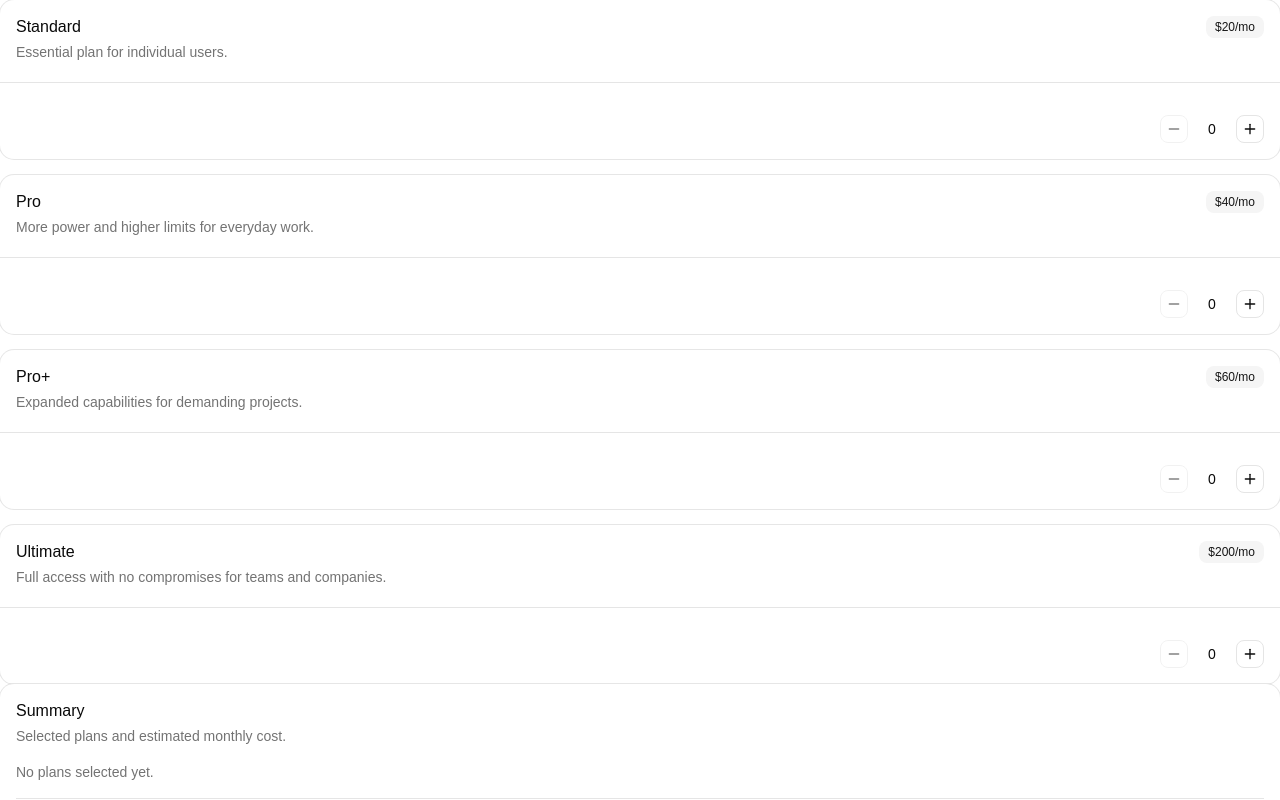
Test: CartSummary › shows selected items and total
The width and height of the screenshot is (1280, 800).
Check: the text "Pro" is shown, box [16,193,41,210]
Click the button named "Increase Pro quantity": click(1250, 304) [1236,290,1264,318]
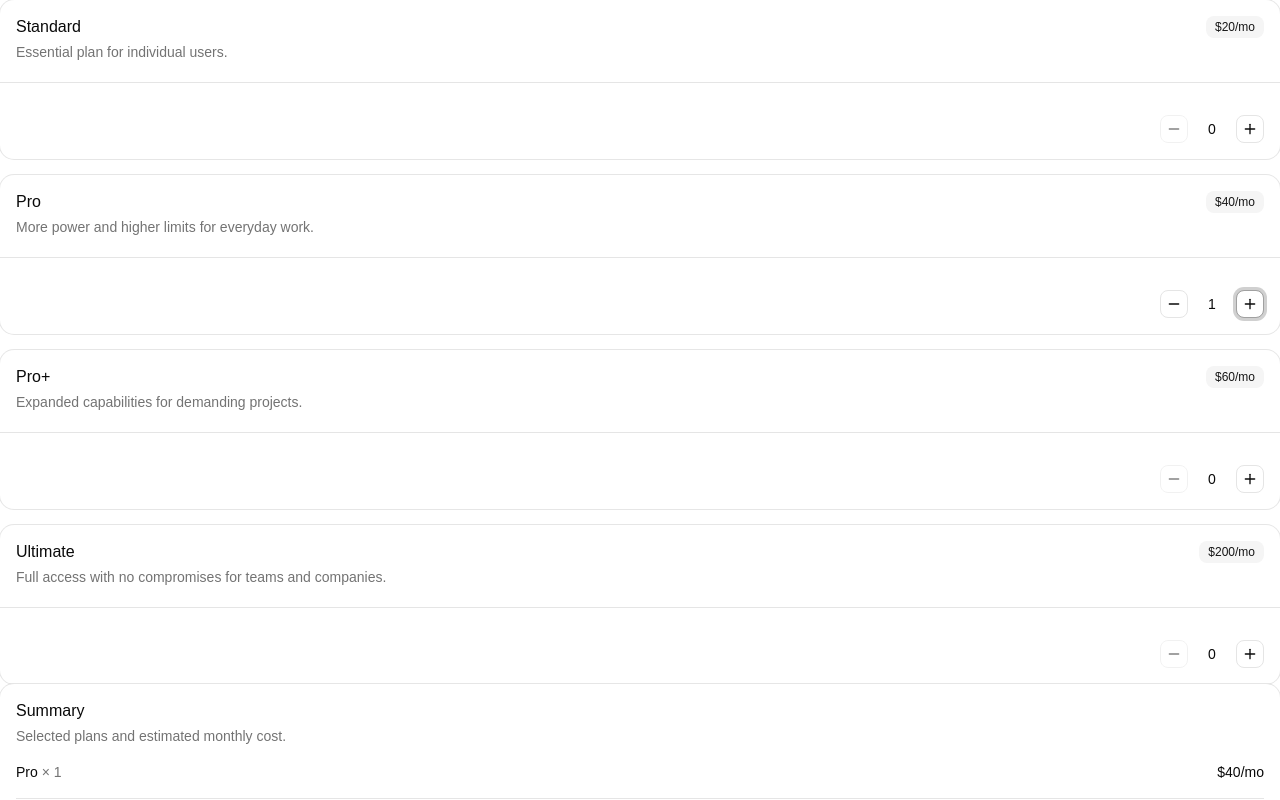
Click the button named "Increase Pro quantity": click(1250, 304) [1236,290,1264,318]
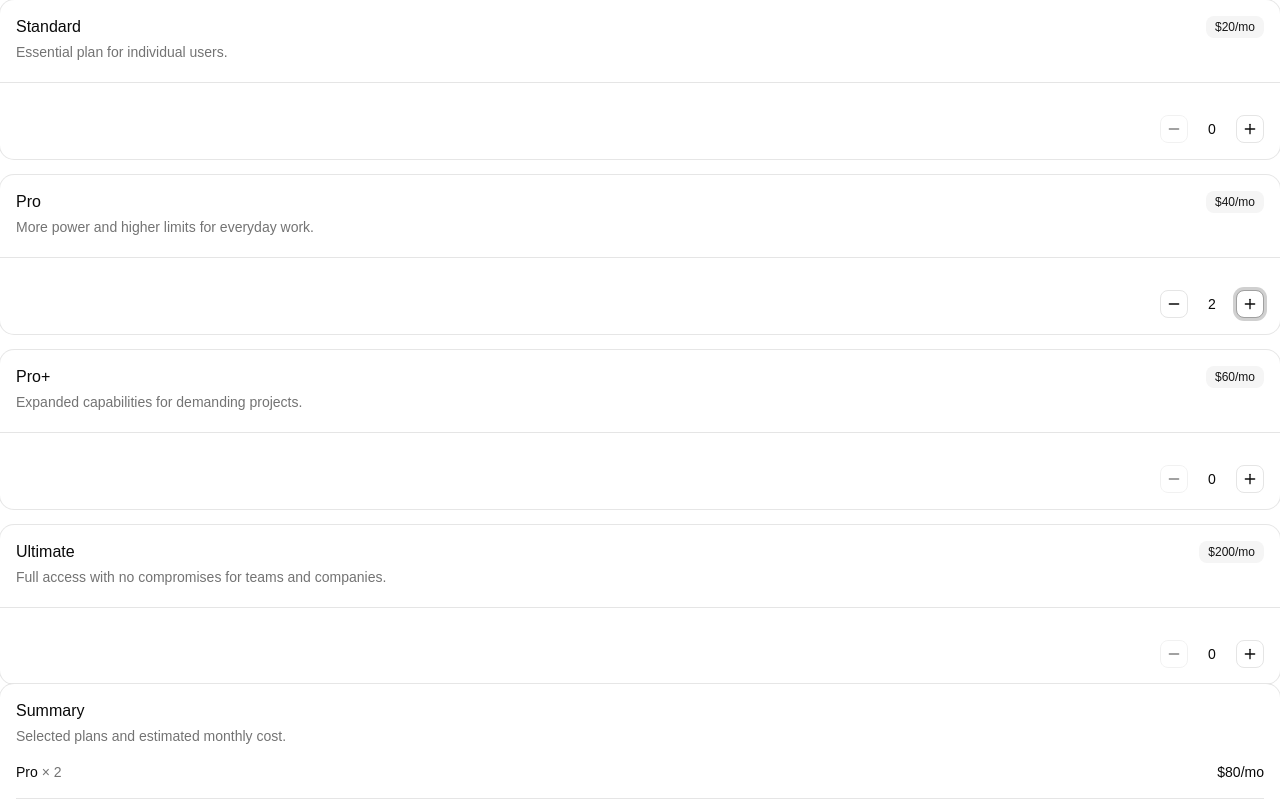
Check: the text "$80/mo" is shown 2 times
Check: the text "× 2" is shown, box [42,764,62,780]
